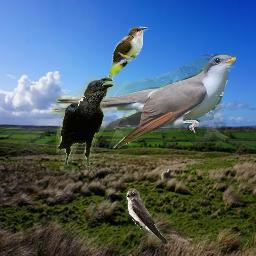Crow: (56, 75, 116, 174)
Cuckoo: (52, 54, 236, 148), (99, 26, 148, 98)
Swallow: (126, 188, 169, 245)
